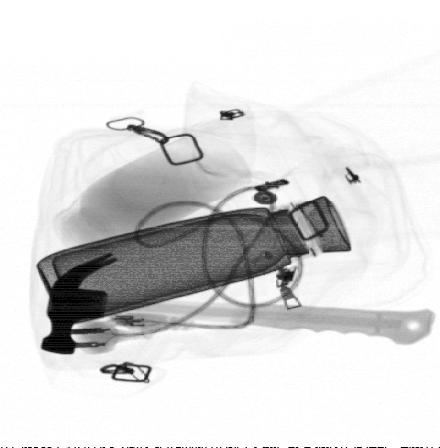Hammer: (39, 252, 435, 354)
